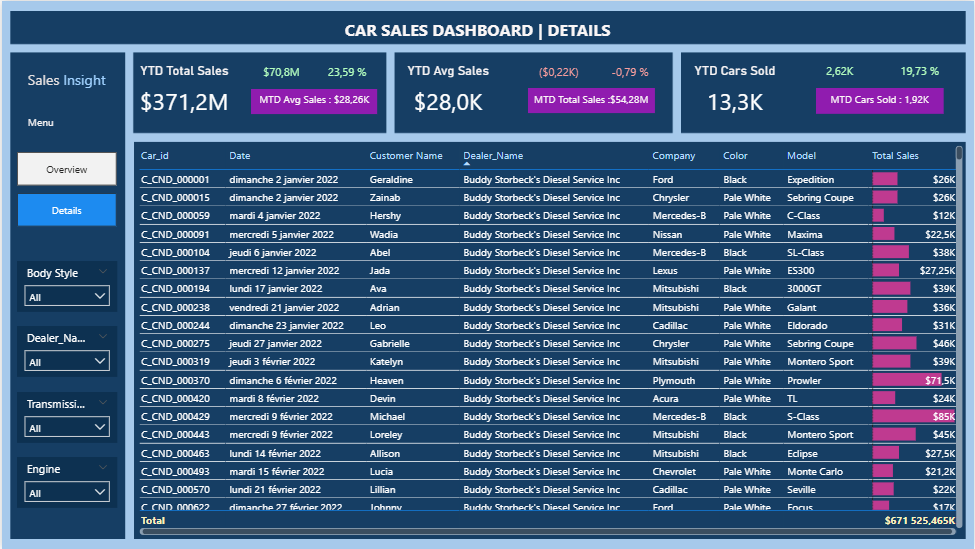

The dashboard page shown, as its layout file describes it:
{"tool":"powerbi","page":{"name":"Details","canvas":[1280,720],"ordinal":1},"visuals":[{"type":"card","title":"YTD Total Sales","fields":{"Values":["car_data.YTD Total Sales"]},"box":[174.5,81.4,130,82.7],"z":0},{"type":"card","fields":{"Values":["car_data.Sales Difference"]},"box":[338.2,80,59.1,29.1],"z":1000},{"type":"card","fields":{"Values":["car_data.YOY Sales Growth"]},"box":[422.7,80,63.6,29.1],"z":2000},{"type":"card","fields":{"Values":["car_data.MTD Avg Price KPI"]},"box":[327.3,115.5,166.4,32.7],"z":3000},{"type":"card","title":"YTD Avg Sales","fields":{"Values":["car_data.YTD Avg Price"]},"box":[528,81,119,83],"z":4000},{"type":"card","fields":{"Values":["car_data.Avg Price Diff"]},"box":[701.4,75.7,62.9,37.1],"z":5000},{"type":"card","fields":{"Values":["car_data.YOY Avg Price Growth"]},"box":[792.9,75.7,65.7,37.1],"z":6000},{"type":"card","fields":{"Values":["car_data.MTD KPI"]},"box":[691.7,115,166.7,33.3],"z":7000},{"type":"card","title":"YTD Cars Sold","fields":{"Values":["car_data.YTD Cars Sold"]},"box":[904,81,121,83],"z":8000},{"type":"card","fields":{"Values":["car_data.Cars Sold Diff"]},"box":[1071.2,76.2,62.5,36.2],"z":9000},{"type":"card","fields":{"Values":["car_data.YOY Car Sold Growth"]},"box":[1176.2,76.2,62.5,36.2],"z":10000},{"type":"card","fields":{"Values":["car_data.MTD Cars Sold KPI"]},"box":[1071.2,115,167.5,33.8],"z":11000},{"type":"textbox","box":[445.7,18.6,388.6,42.9],"z":12000},{"type":"slicer","fields":{"Values":["car_data.Body Style"]},"box":[20.3,342,131.9,66.7],"z":13000},{"type":"slicer","fields":{"Values":["car_data.Dealer_Name"]},"box":[20.3,427.5,131.9,66.7],"z":14000},{"type":"slicer","fields":{"Values":["car_data.Transmission"]},"box":[20.3,514.5,131.9,66.7],"z":15000},{"type":"slicer","fields":{"Values":["car_data.Engine"]},"box":[20.3,600,131.9,66.7],"z":16000},{"type":"tableEx","fields":{"Values":["car_data.Car_id","car_data.Date","car_data.Customer Name","car_data.Dealer_Name","car_data.Company","car_data.Color","car_data.Model","car_data.Price ($)"]},"box":[175,185,1094.2,521.7],"z":17000},{"type":"textbox","box":[28.3,85,123.3,38.3],"z":17001},{"type":"textbox","box":[28.3,146.7,50,35],"z":17002},{"type":"pageNavigator","box":[20,198.3,131.7,98.3],"z":17003}]}

Visuals, with their boxes in screenshot pixels (x1, y1, x2, y2), scaled from the page's 1280x720 canvas onto the 975x549 screenshot:
"YTD Total Sales" card: crop(133, 62, 232, 125)
card - car_data.Sales Difference: crop(258, 61, 303, 83)
card - car_data.YOY Sales Growth: crop(322, 61, 370, 83)
card - car_data.MTD Avg Price KPI: crop(249, 88, 376, 113)
"YTD Avg Sales" card: crop(402, 62, 493, 125)
card - car_data.Avg Price Diff: crop(534, 58, 582, 86)
card - car_data.YOY Avg Price Growth: crop(604, 58, 654, 86)
card - car_data.MTD KPI: crop(527, 88, 654, 113)
"YTD Cars Sold" card: crop(689, 62, 781, 125)
card - car_data.Cars Sold Diff: crop(816, 58, 864, 86)
card - car_data.YOY Car Sold Growth: crop(896, 58, 944, 86)
card - car_data.MTD Cars Sold KPI: crop(816, 88, 944, 113)
textbox: crop(339, 14, 636, 47)
slicer - car_data.Body Style: crop(15, 261, 116, 312)
slicer - car_data.Dealer_Name: crop(15, 326, 116, 377)
slicer - car_data.Transmission: crop(15, 392, 116, 443)
slicer - car_data.Engine: crop(15, 458, 116, 508)
tableEx - car_data.Car_id x car_data.Date: crop(133, 141, 967, 539)
textbox: crop(22, 65, 115, 94)
textbox: crop(22, 112, 60, 139)
pageNavigator: crop(15, 151, 116, 226)
